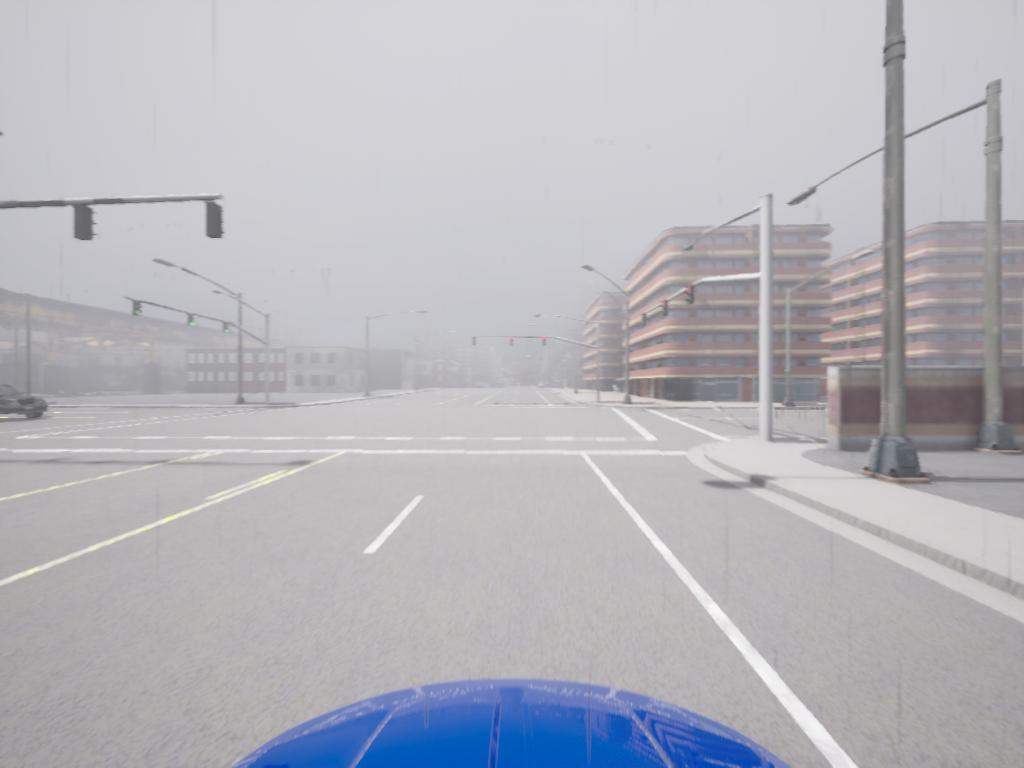traffic_light: (203, 200, 225, 241), (75, 207, 99, 243), (686, 284, 696, 305), (660, 300, 669, 321), (134, 305, 144, 319), (188, 314, 196, 329), (642, 313, 649, 328), (223, 323, 230, 337), (472, 337, 478, 349), (542, 338, 546, 349), (510, 338, 514, 349)
